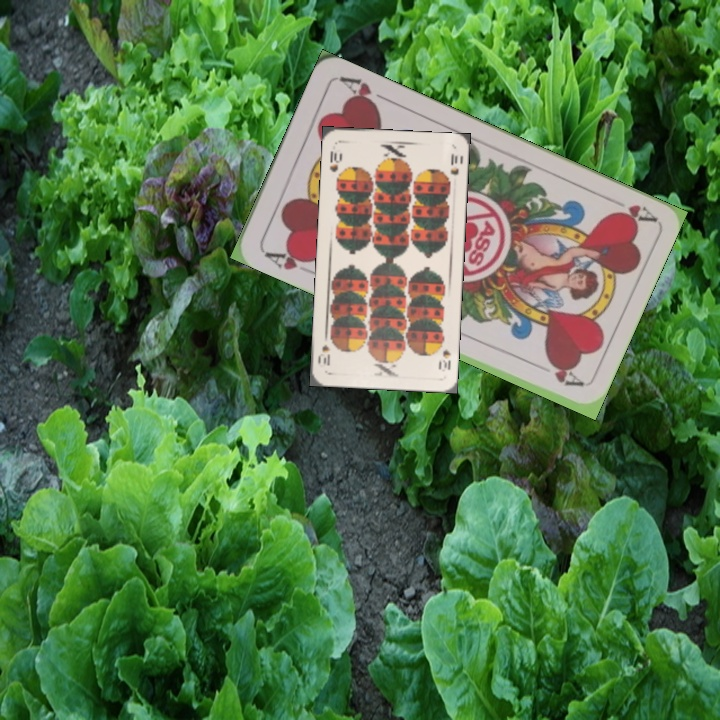HA: (259, 244, 318, 277), (600, 192, 657, 226)
S10: (434, 336, 453, 373), (325, 147, 344, 175)
